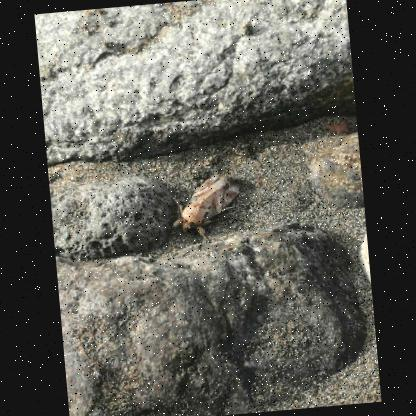Fall Armyworm Moth: (156, 169, 250, 249)
